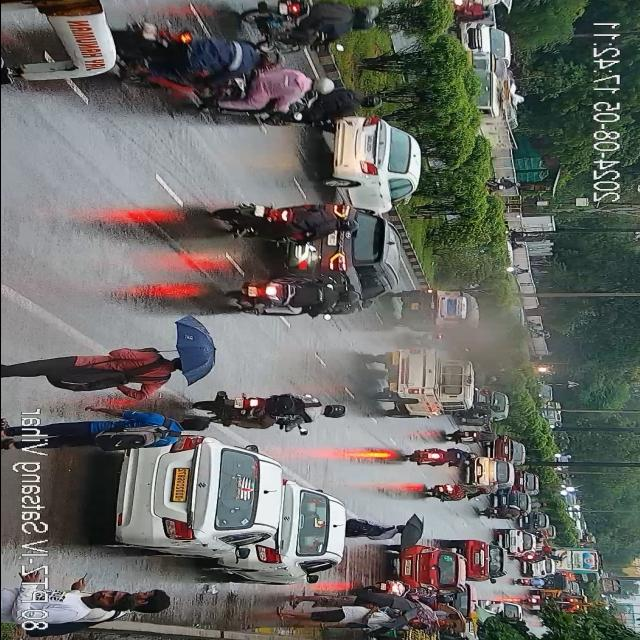2-wheelers: (209, 49, 332, 120), (0, 410, 216, 450), (242, 0, 398, 44), (190, 393, 352, 435), (224, 204, 358, 244), (233, 277, 349, 315), (404, 444, 466, 471), (422, 478, 473, 504), (442, 424, 494, 444), (484, 174, 524, 190), (516, 576, 548, 588), (534, 364, 554, 376)
auto: (388, 290, 483, 336), (463, 49, 513, 75), (505, 239, 533, 275)
bus: (0, 0, 132, 99), (553, 542, 599, 586)
car: (106, 422, 280, 576), (292, 199, 394, 317), (245, 484, 344, 580), (329, 112, 420, 210), (395, 544, 457, 592), (460, 20, 514, 60), (467, 453, 511, 499), (461, 537, 504, 584), (488, 430, 524, 470), (490, 486, 526, 520), (477, 388, 510, 422), (502, 526, 532, 556), (522, 557, 556, 583), (475, 600, 519, 620), (515, 468, 536, 496), (520, 512, 548, 532), (537, 524, 557, 540)
pedestrian: (0, 342, 211, 398), (36, 580, 132, 630), (280, 604, 410, 626), (344, 516, 426, 542), (137, 585, 173, 616)
truck: (374, 344, 474, 418), (476, 78, 524, 150)
